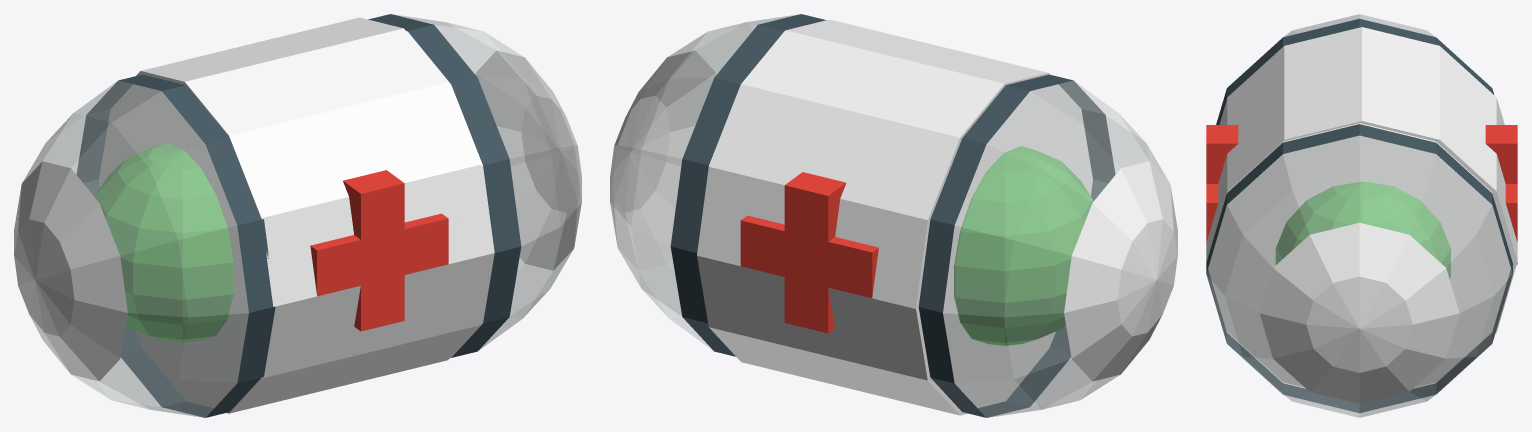
File: Medkit.obj
3 renders of one model, left to right at view 1: azimuth 30°, elevation 25°; view 2: azimuth 150°, elevation 25°; view 3: azimuth 270°, elevation 25°, orthographic. The views are drawn at different scales.
Parts seen in each view (by area): view 1: group1337165334, group1864313969, group1846840025, group1595376005, group1990805850, group1664986911; view 2: group1337165334, group1864313969, group1846840025, group1595376005, group215974420, group610462800; view 3: group1846840025, group1337165334, group2025871873, group1864313969, group610462800, group1664986911, group215974420, group1990805850.
Boxes of the visible parts, x1,y1,x2,y2 form: group1337165334: [99, 17, 492, 413]; group1864313969: [14, 74, 302, 417]; group1846840025: [368, 14, 581, 358]; group1595376005: [95, 143, 233, 342]; group1990805850: [310, 213, 448, 296]; group1664986911: [343, 170, 404, 331]; group1337165334: [697, 19, 1092, 415]; group1864313969: [918, 74, 1177, 417]; group1846840025: [610, 14, 826, 356]; group1595376005: [954, 146, 1093, 345]; group215974420: [740, 215, 878, 298]; group610462800: [784, 172, 846, 333]; group1846840025: [1206, 123, 1512, 417]; group1337165334: [1206, 27, 1517, 387]; group2025871873: [1275, 181, 1450, 278]; group1864313969: [1216, 14, 1494, 124]; group610462800: [1485, 125, 1517, 264]; group1664986911: [1206, 125, 1238, 183]; group215974420: [1505, 184, 1517, 242]; group1990805850: [1206, 184, 1218, 242].
Bounding box in the file's own units: 0.24 × 0.14 × 0.14.
